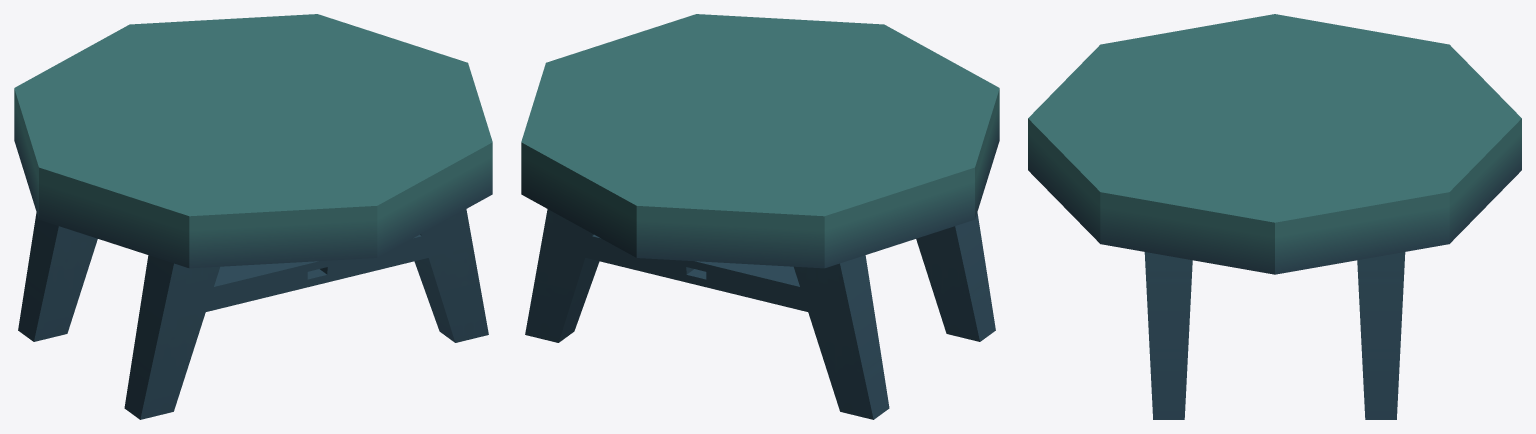
The model's file is ItemPropsStool.fbx.
3 views of the same model, side by side, from view 1: azimuth 30°, elevation 25°; view 2: azimuth 150°, elevation 25°; view 3: azimuth 270°, elevation 25° (orthographic).
Visible parts, largest first — view 1: Cube.012; view 2: Cube.012; view 3: Cube.012.
Part boxes in pixels (bbox=[...]): Cube.012: bbox=[14, 14, 492, 419]; Cube.012: bbox=[521, 14, 999, 419]; Cube.012: bbox=[1028, 14, 1521, 419].
Bounding box in the file's own units: 87.36 × 42.33 × 87.36.
